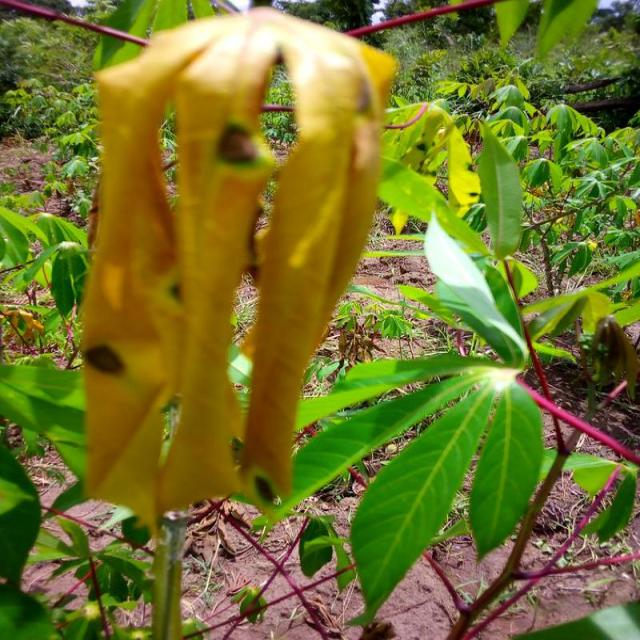cassava leaf: (344, 376, 498, 627), (422, 208, 530, 370), (468, 377, 543, 560)
